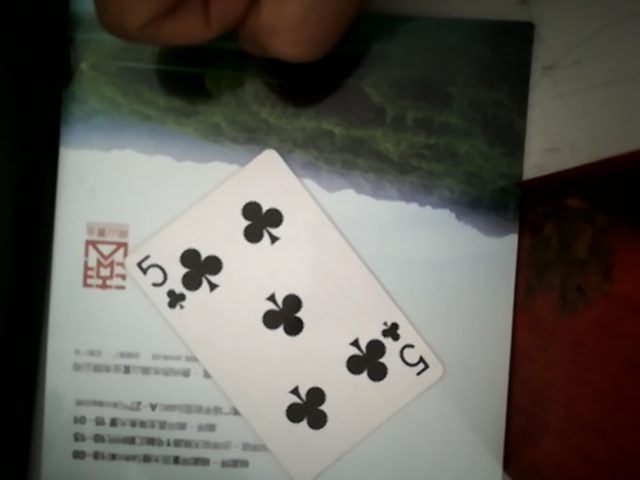mh 5: (106, 144, 439, 479)
